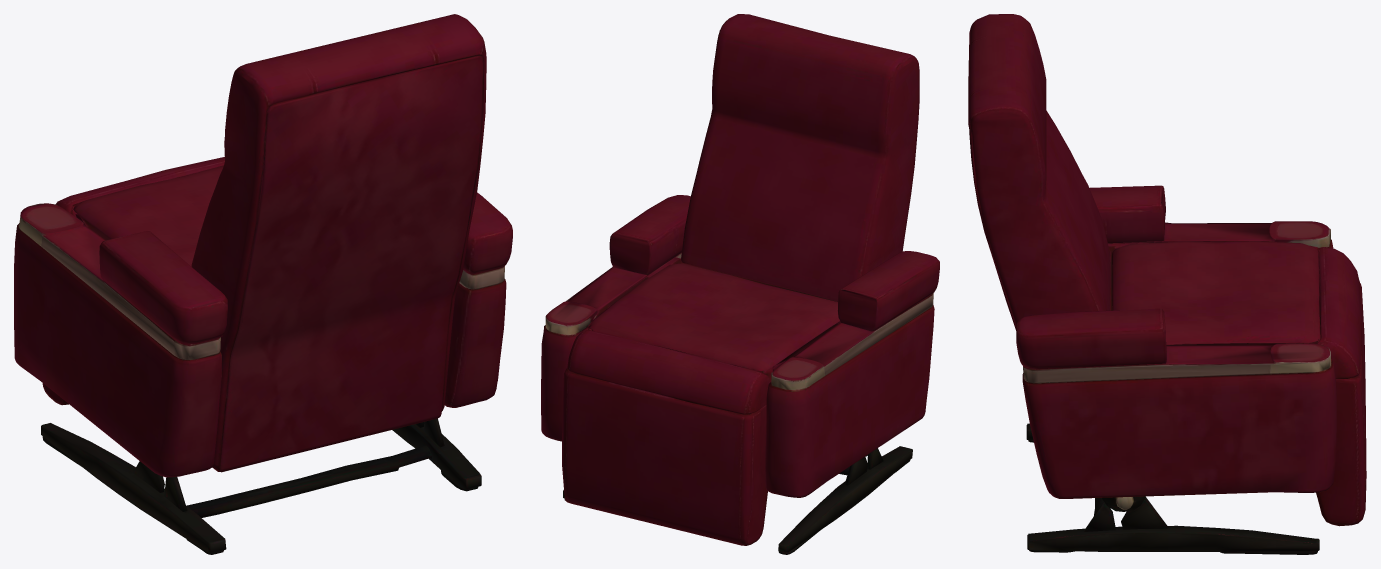
The model's file is premium-recliner.glb.
3 views of the same model, side by side, from view 1: azimuth 30°, elevation 25°; view 2: azimuth 150°, elevation 25°; view 3: azimuth 270°, elevation 25° (orthographic). The views are drawn at different scales.
Parts seen in each view (by area): view 1: Oxblood premium recliner; view 2: Oxblood premium recliner; view 3: Oxblood premium recliner.
Part boxes in pixels (x1,y1,x2,y2): Oxblood premium recliner: [14, 14, 512, 554]; Oxblood premium recliner: [541, 14, 939, 554]; Oxblood premium recliner: [968, 14, 1366, 554].
Bounding box in the file's own units: 0.7246 × 0.998 × 0.8301.
Materials: 1 (1 with a texture image).
